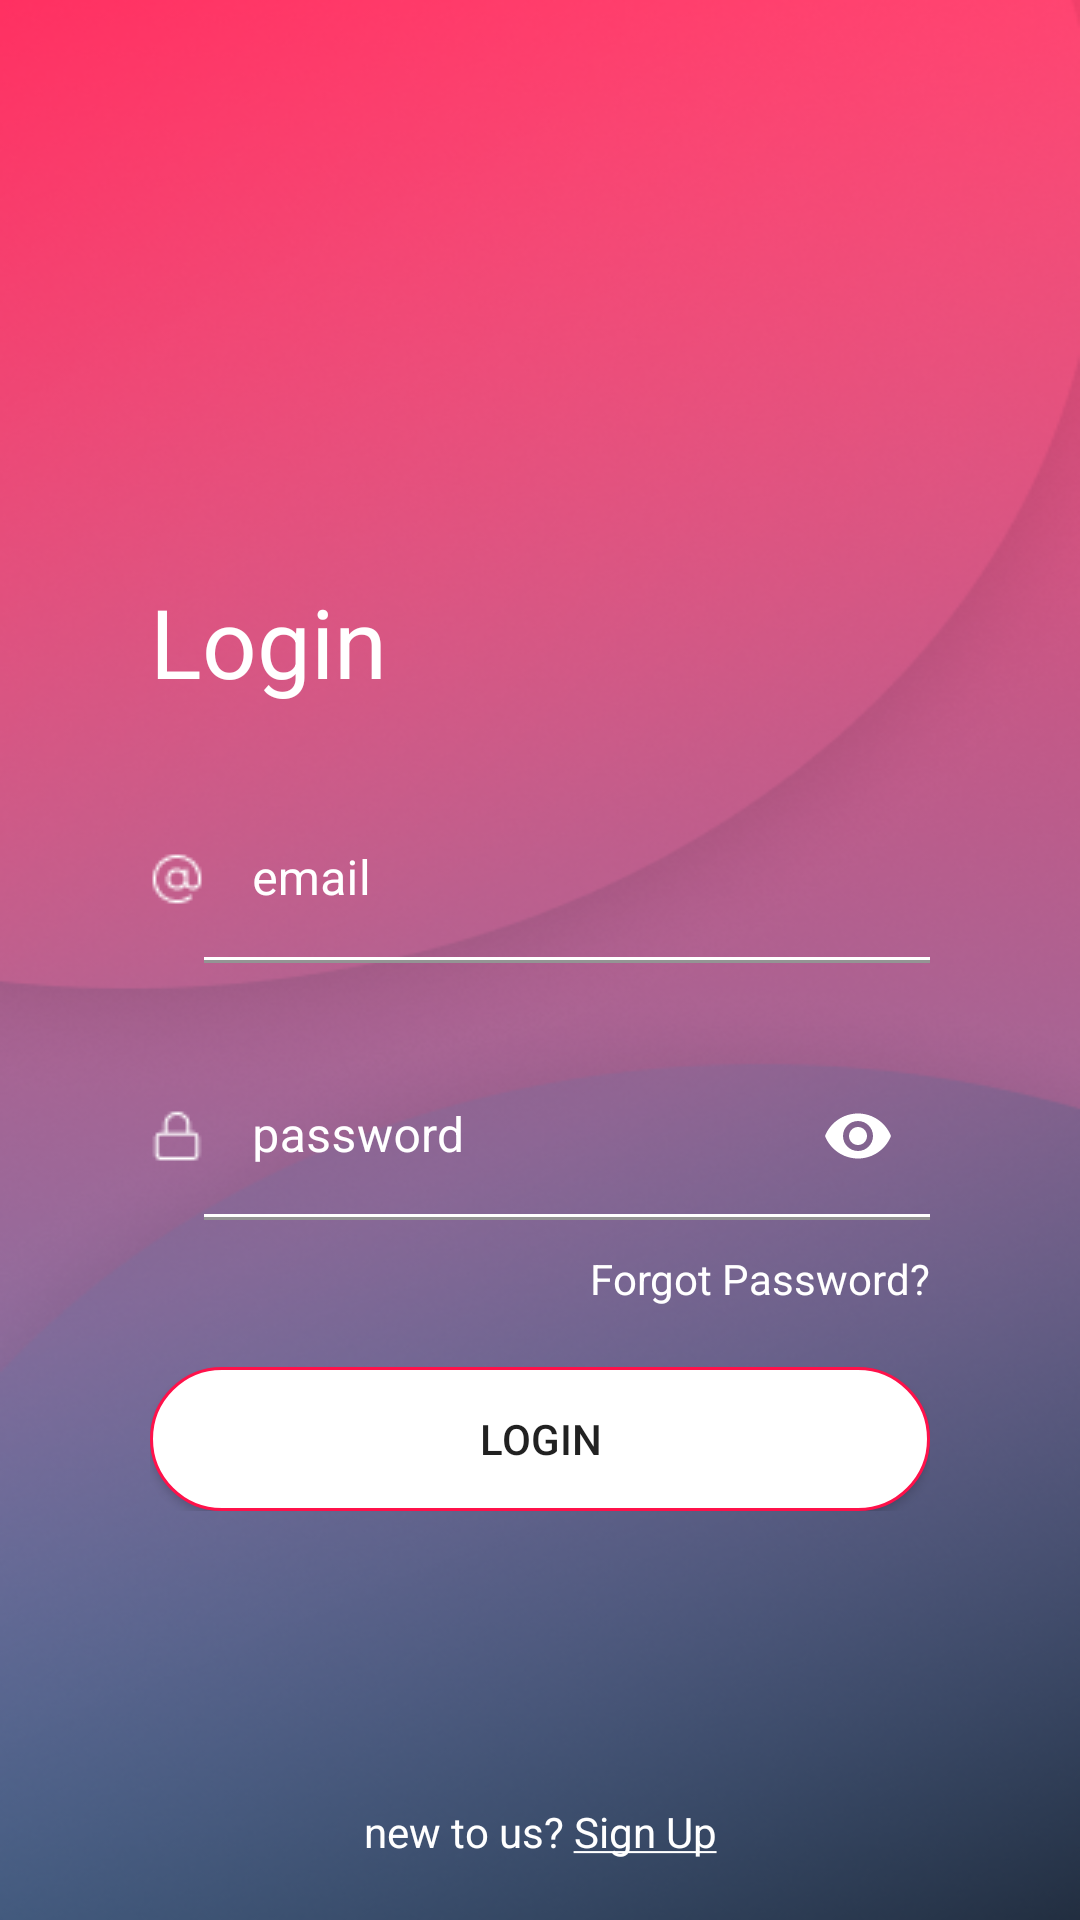

Screen size 1080w x 1920h. Icon name, then its center in pixels as point (x, y):
lock: point (177, 1136)
